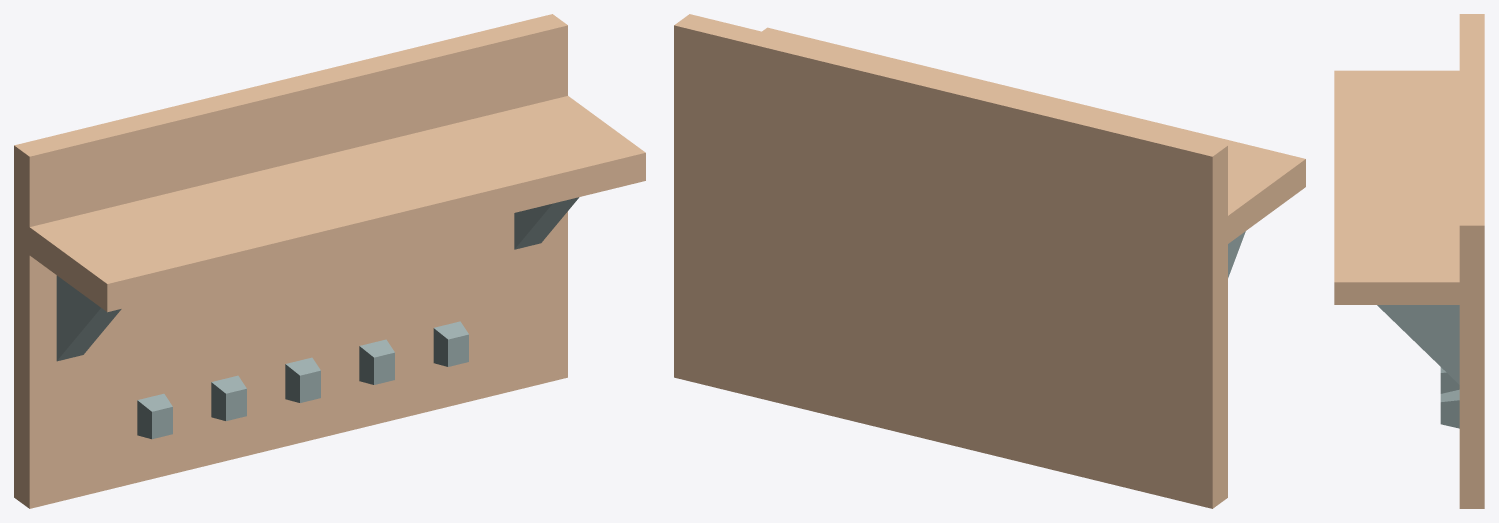
File: coatRack.glb
3 renders of one model, left to right at view 1: azimuth 30°, elevation 25°; view 2: azimuth 150°, elevation 25°; view 3: azimuth 270°, elevation 25°, orthographic. The views are drawn at different scales.
Parts seen in each view (by area): view 1: coatRack(Clone); view 2: coatRack(Clone); view 3: coatRack(Clone).
Part boxes in pixels (x1=…): coatRack(Clone): x1=14, y1=14, x2=645, y2=508; coatRack(Clone): x1=674, y1=14, x2=1305, y2=508; coatRack(Clone): x1=1334, y1=14, x2=1484, y2=508.
Size of the model in its own units: 0.896 by 0.56 by 0.2688.
